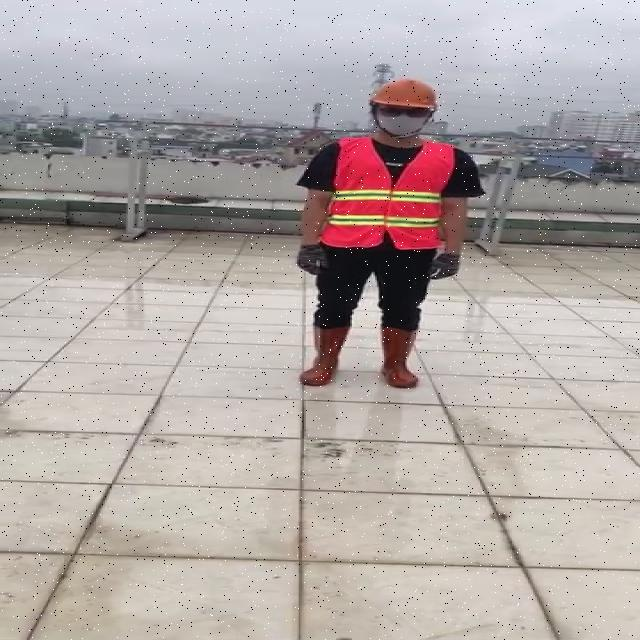Hard_hat: (364, 76, 445, 119)
Person: (286, 73, 488, 401)
Vest: (325, 136, 454, 256)
